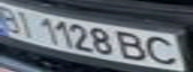1: (33, 15, 60, 44), (48, 18, 72, 47)
2: (66, 20, 93, 53)
8: (90, 25, 118, 56)
B: (115, 29, 151, 63), (0, 3, 27, 34)
C: (142, 34, 187, 68)
I: (9, 9, 39, 38)
